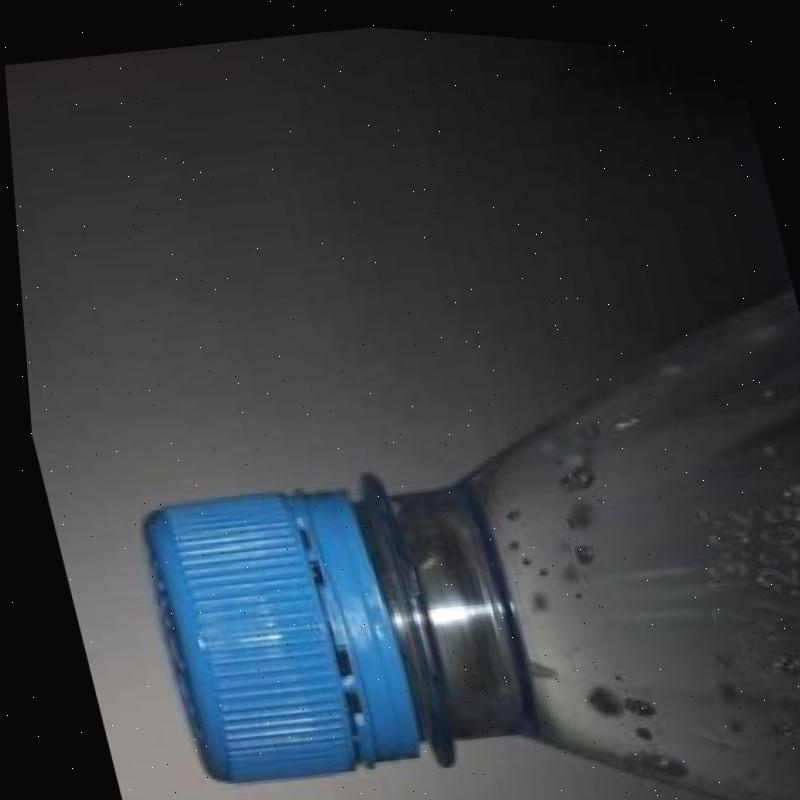botella: (86, 242, 800, 800)
